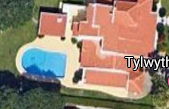pool: (24, 51, 66, 76)
